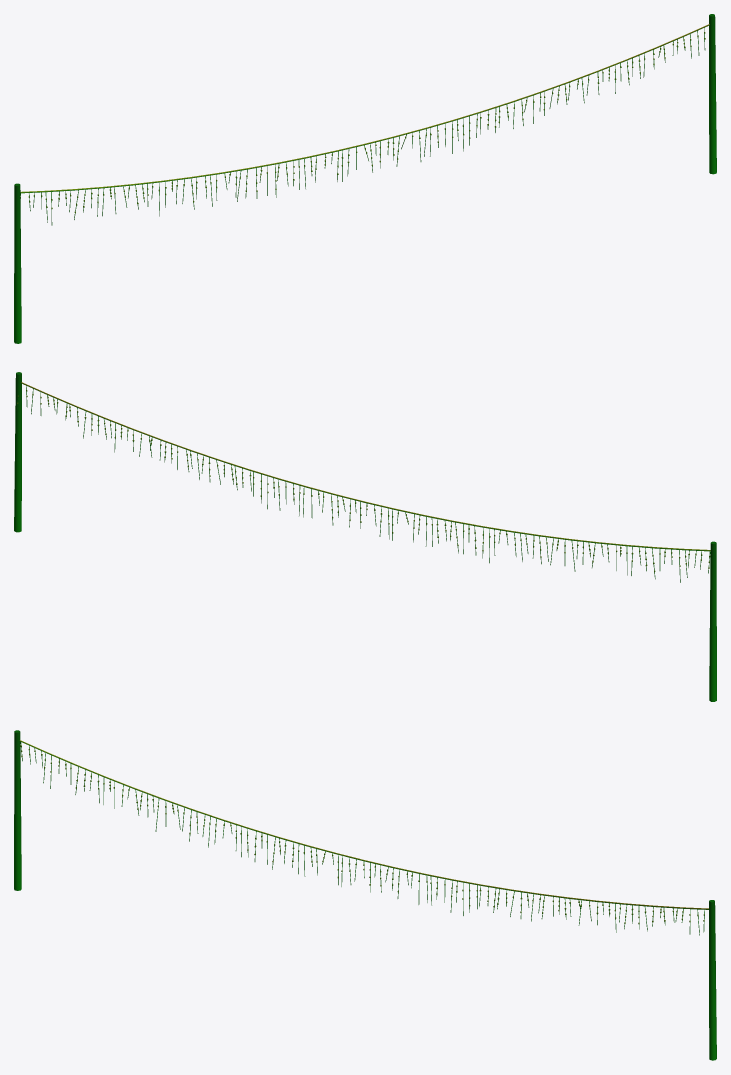
File: pass_cord.glb
3 views of the same model, one above another, from view 1: azimuth 30°, elevation 25°; view 2: azimuth 150°, elevation 25°; view 3: azimuth 330°, elevation 25° (orthographic).
Visible parts, largest first — view 1: pass_cord; view 2: pass_cord; view 3: pass_cord.
Part boxes in pixels (x1,y1,x2,y2): pass_cord: [14, 14, 716, 343]; pass_cord: [14, 372, 716, 701]; pass_cord: [14, 730, 716, 1060].
Size of what is drawn, in the model's own units: 18.18 by 3.9 by 0.2923.
